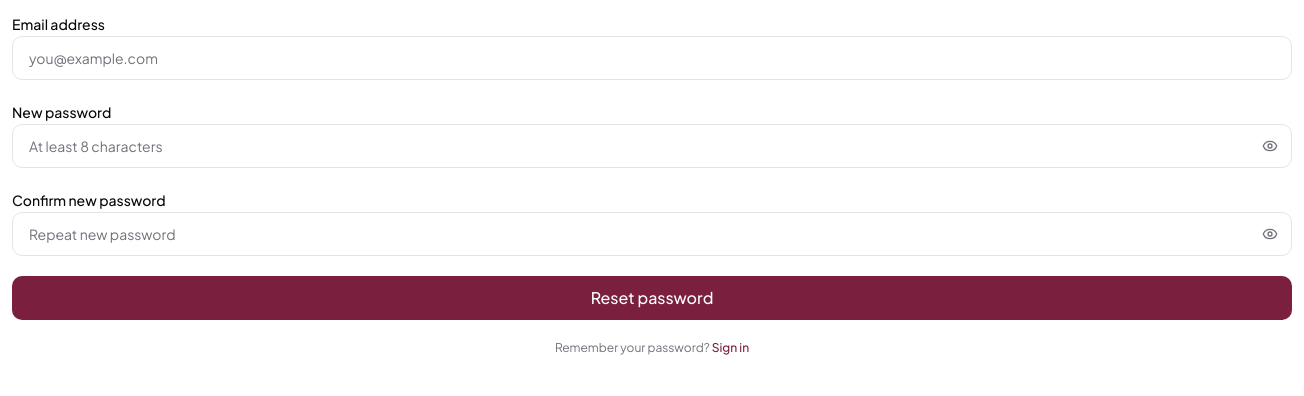
Test: ResetPasswordForm (F9.2) › validates that passwords do not match when length is valid
Type "alice@example.com" into the field labelled "Email address" at (652, 58), box [12,36,1292,80]
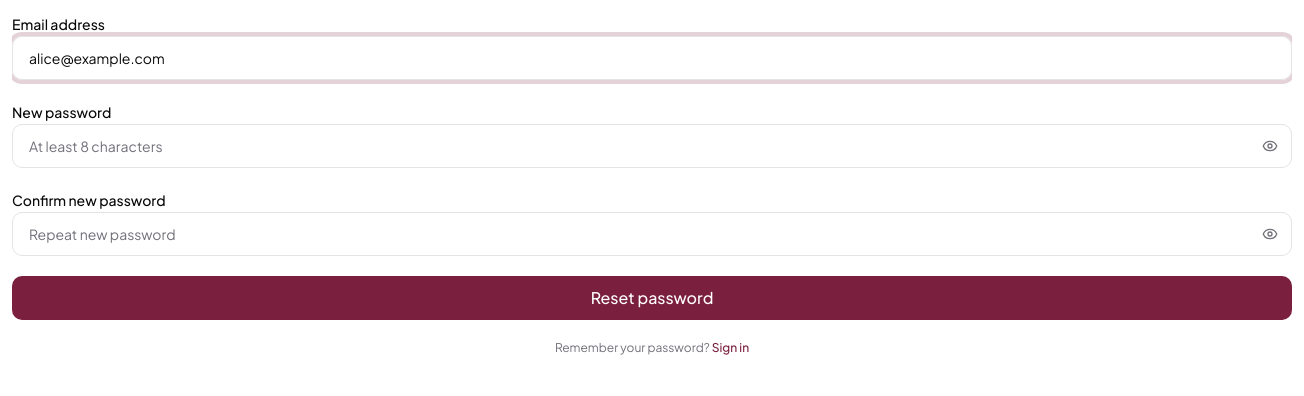
Type "validpassword1" into the password field labelled "New password" at (652, 146), box [12,124,1292,168]
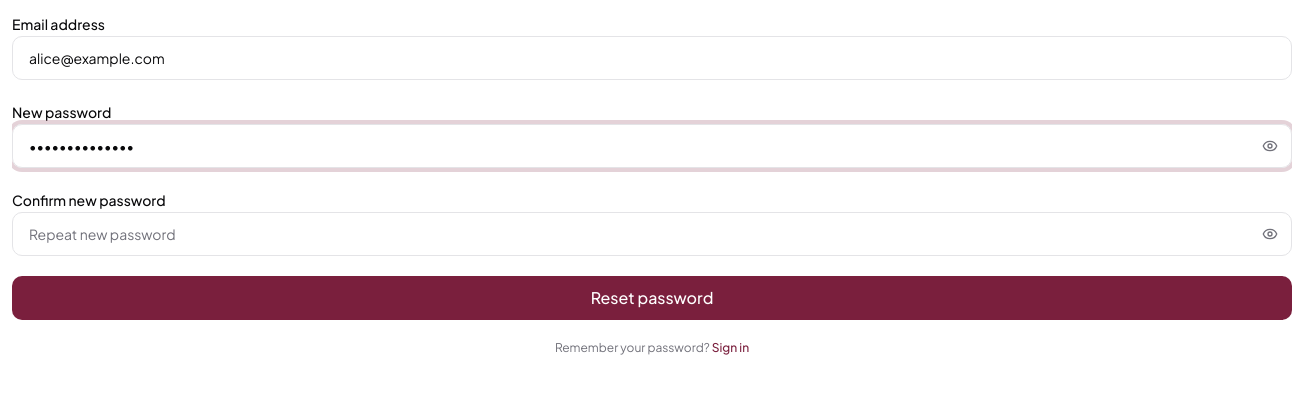
Type "differentpass2" into the password field labelled "Confirm new password" at (652, 234), box [12,212,1292,256]
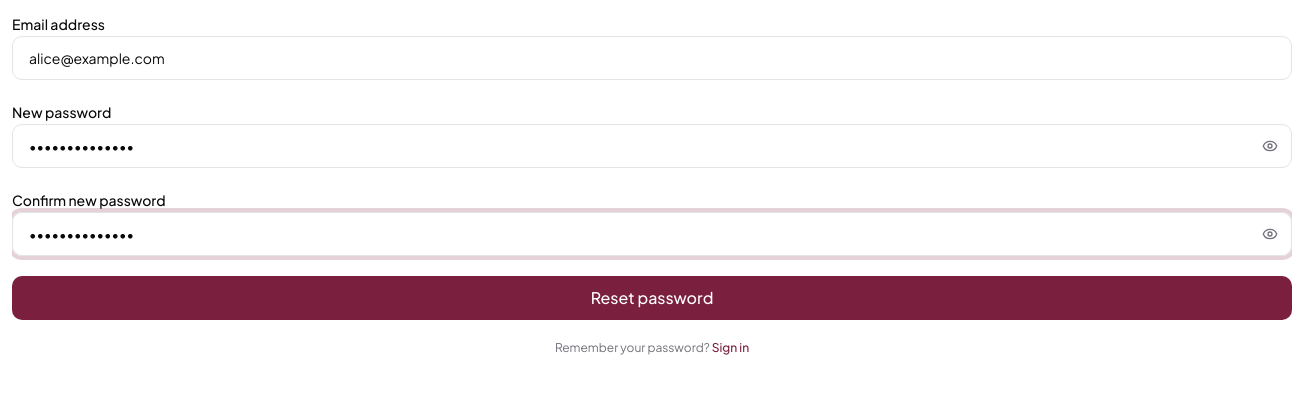
Click the button "Reset password" at (652, 298), box [12,276,1292,320]
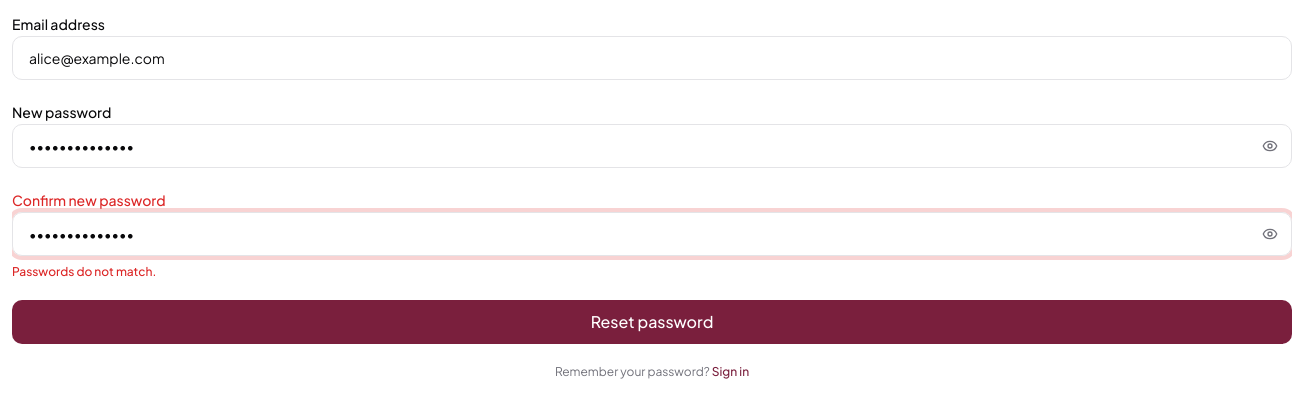
Now the text "Passwords do not match." is shown, box [12,264,156,279]
